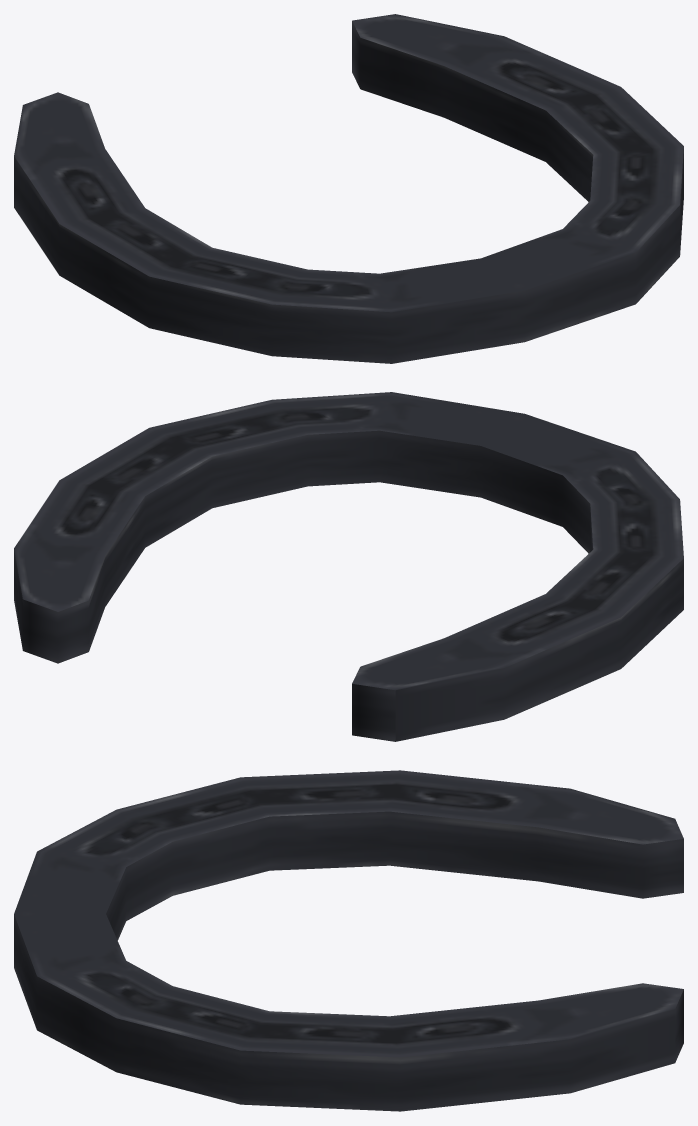
Rendered from SM_PROP_horseshoe_interior.fbx.
3 views of the same model, one above another, from view 1: azimuth 30°, elevation 25°; view 2: azimuth 150°, elevation 25°; view 3: azimuth 270°, elevation 25° (orthographic). The views are drawn at different scales.
Parts seen in each view (by area): view 1: SM_PROP_horseshoe_interior; view 2: SM_PROP_horseshoe_interior; view 3: SM_PROP_horseshoe_interior.
Boxes of the visible parts, box(x1,y1,x2,y2) form: SM_PROP_horseshoe_interior: box(14, 14, 683, 363); SM_PROP_horseshoe_interior: box(14, 392, 683, 741); SM_PROP_horseshoe_interior: box(14, 770, 683, 1111).
Size of the model in its own units: 18.04 by 1.58 by 17.79.
